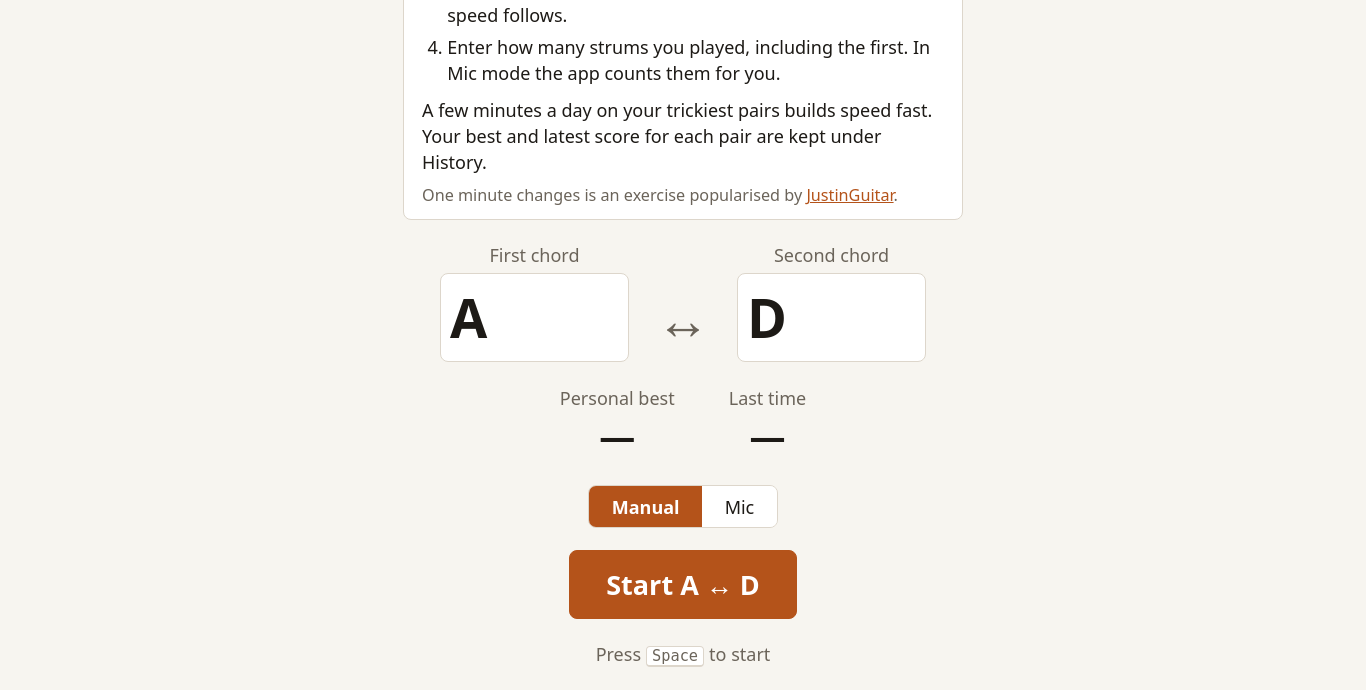
input lost during the run shows a message and no prefill
This screenshot has width=1366, height=690.
(page scrolled)
Click the radio button labelled "Mic" at (739, 507), box [702,486,777,527]
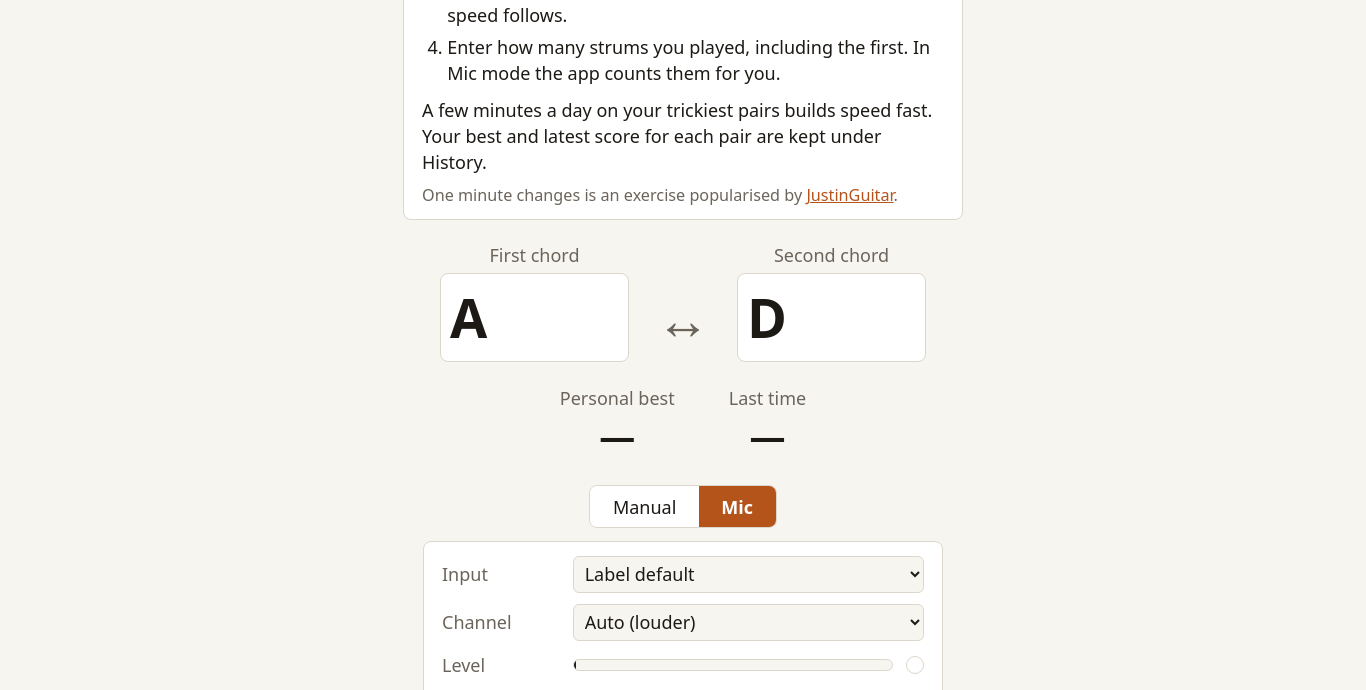
Press Space
Wait 70000 ms
(page scrolled)
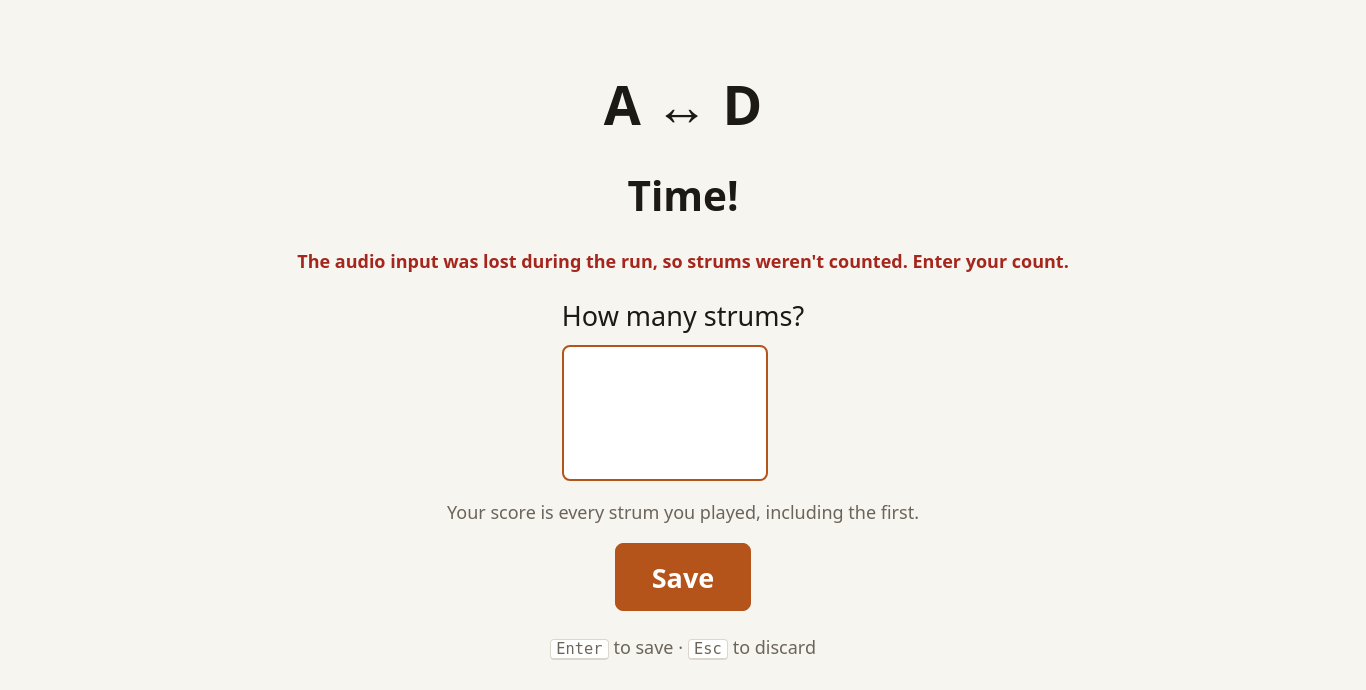
Result: the message shows "input was lost" at [297,249,1069,273]
Result: the field labelled "How many strums?" is empty at [562,344,768,481]
